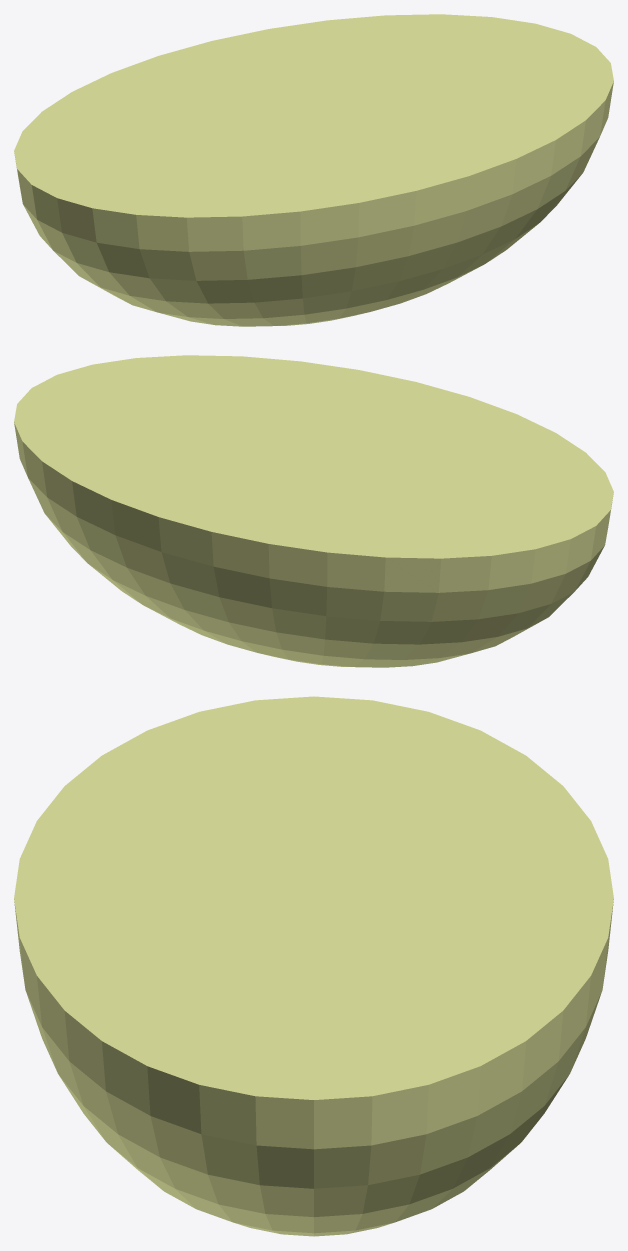
Rendered from lamp.glb.
3 views of the same model, one above another, from view 1: azimuth 30°, elevation 25°; view 2: azimuth 150°, elevation 25°; view 3: azimuth 270°, elevation 25° (orthographic). The views are drawn at different scales.
Parts seen in each view (by area): view 1: Sphere; view 2: Sphere; view 3: Sphere.
Part boxes in pixels (<box>): Sphere: <box>14,14,613,326</box>; Sphere: <box>14,355,613,667</box>; Sphere: <box>14,696,613,1236</box>.
Bounding box in the file's own units: 0.398 × 0.125 × 0.25.
